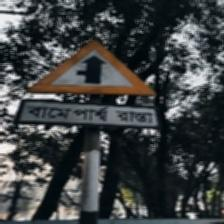Side-road-left: (18, 38, 159, 130)
